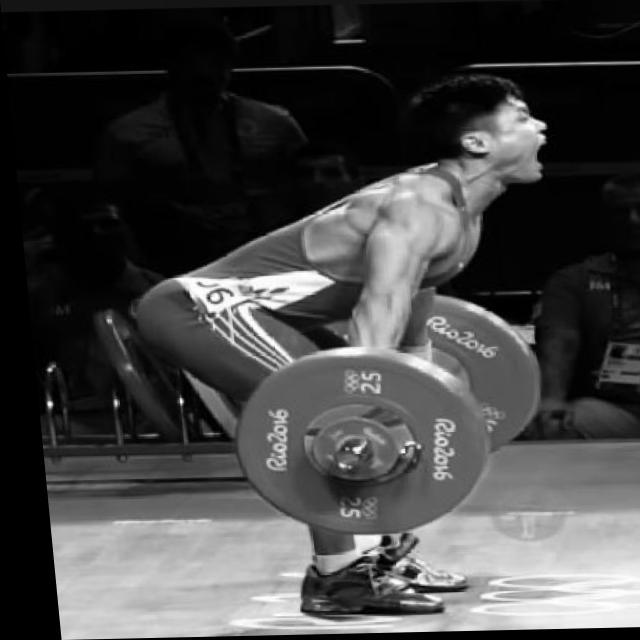barbell: (217, 339, 491, 541)
